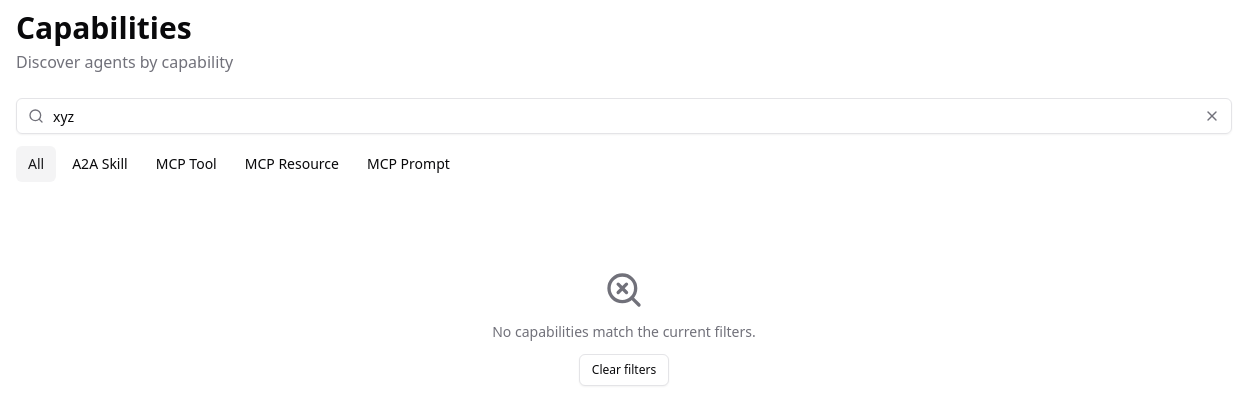
it: CapabilityListPage › clear filters button resets search params
Click the button "Clear filters" at (624, 370), box [579,354,669,386]
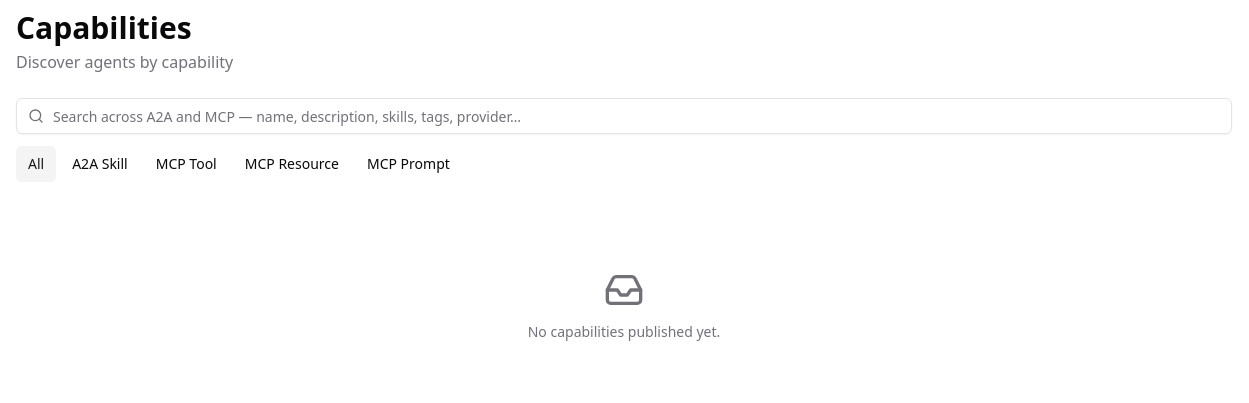
expect the button "Clear filters" is gone: met
